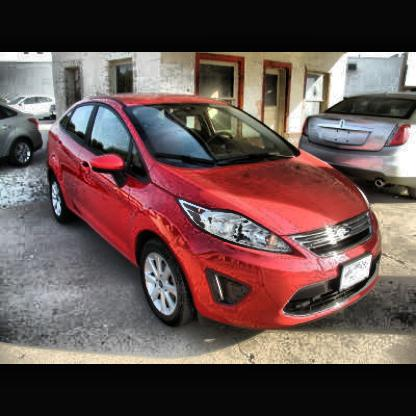Ford Fiesta Sedan 2012: (50, 93, 386, 333)
